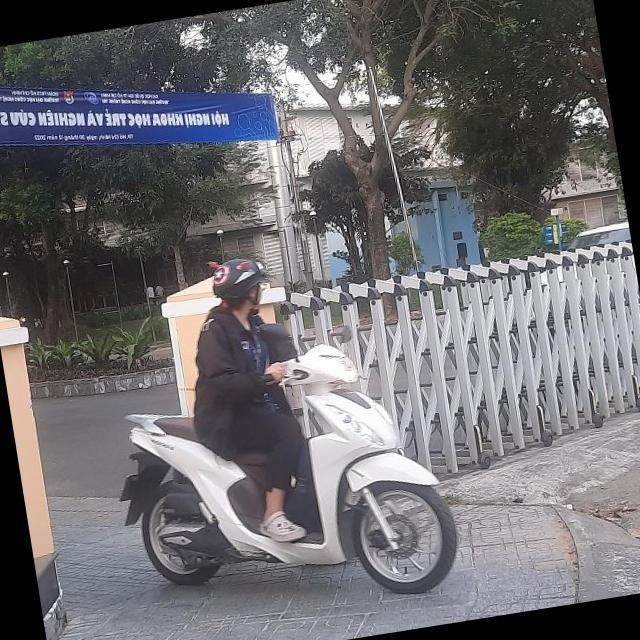WITH_HELMET: (210, 251, 268, 306)
